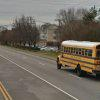Bus: (54, 32, 100, 75)
